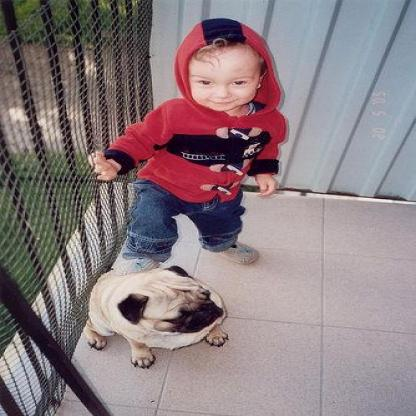pug: (78, 263, 231, 366)
